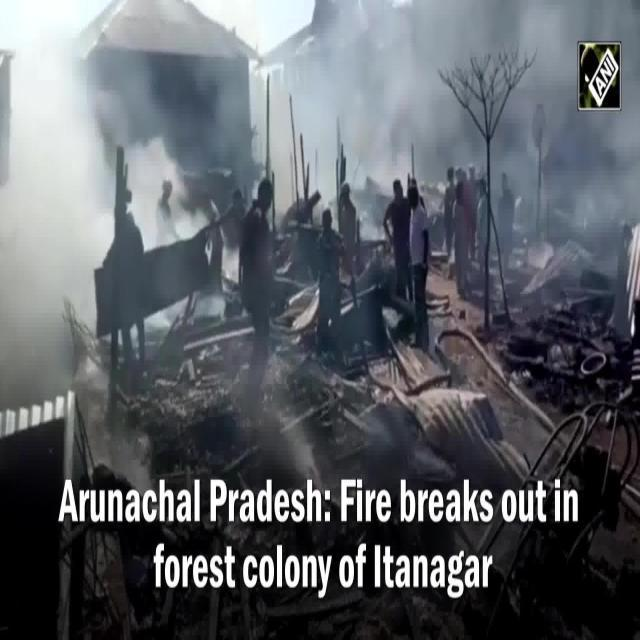Smoke: (5, 28, 94, 364), (276, 65, 444, 166), (558, 119, 628, 238)
